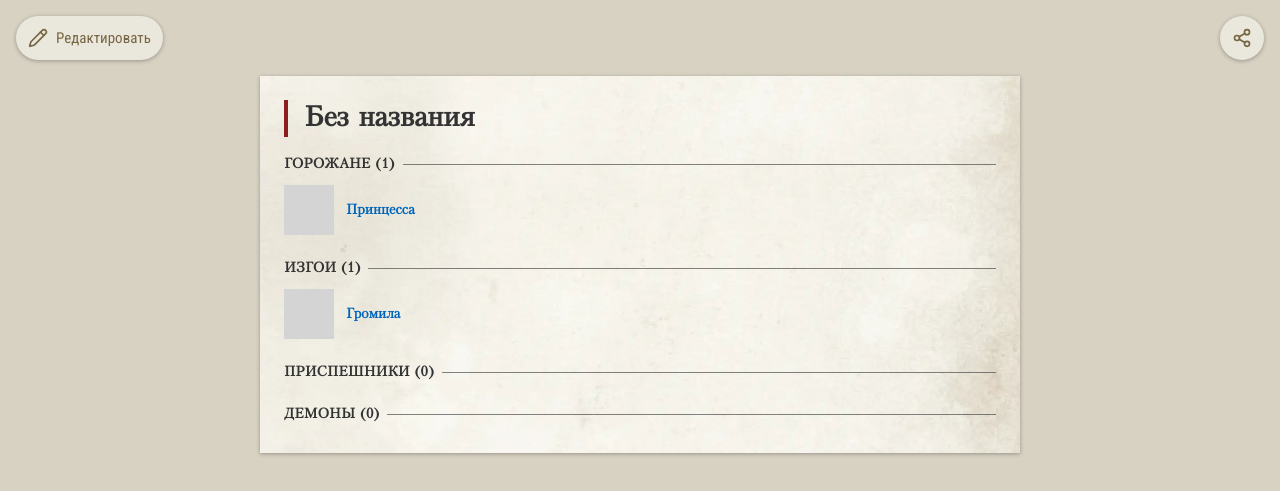
it: App › отменяет и повторяет удаление роли
Expected: the text "Принцесса" is shown, [346,203,415,217]
Click the button "Редактировать". click: [89, 38]
box: [16,16,163,60]
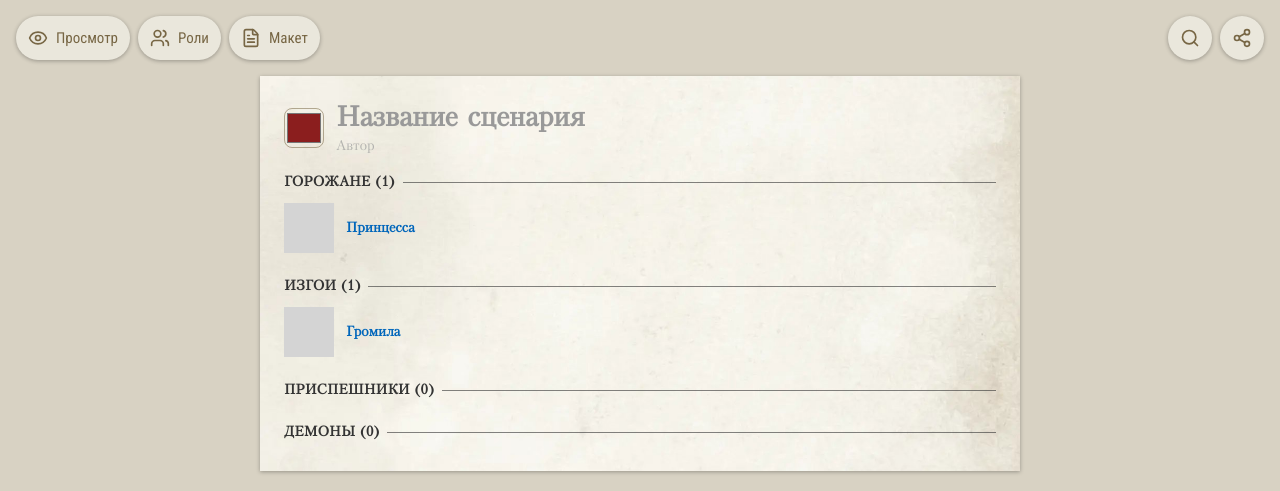
Click the button "Принцесса". click: [309, 228]
box: [278,197,638,259]
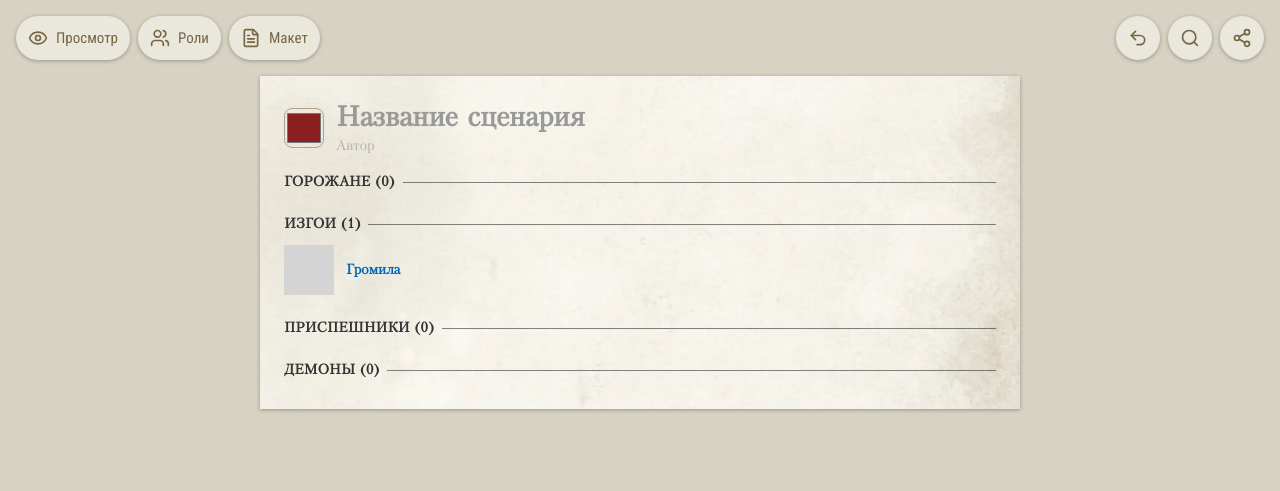
Now the button "Принцесса" is gone
Click the button named "Отменить". click: [1138, 38]
box: [1116,16,1160,60]
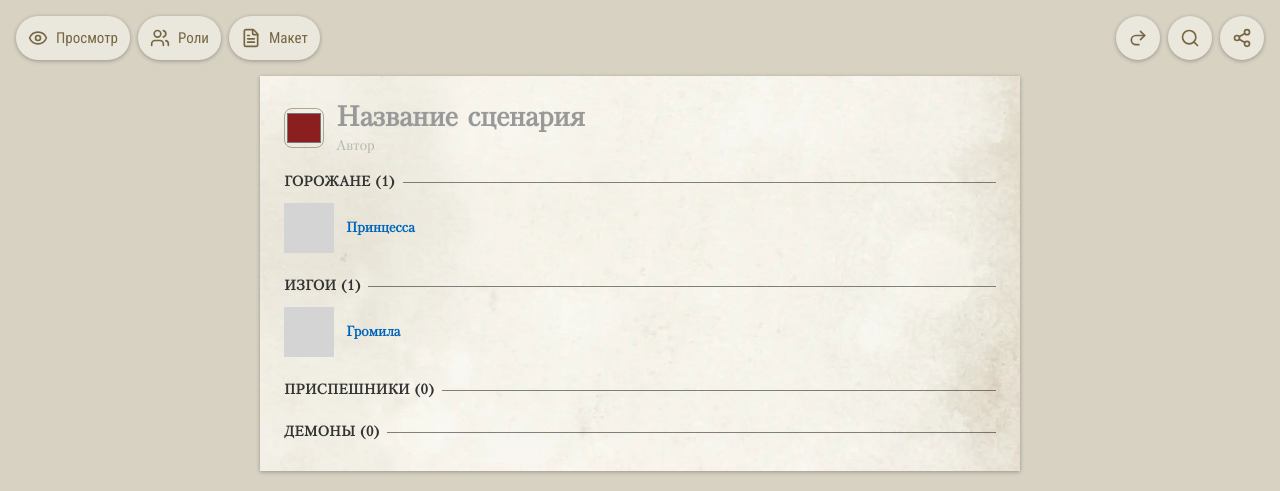
Now the text "Принцесса" is shown, box [346,221,415,235]
Click the button named "Повторить". click: [1138, 38]
box: [1116,16,1160,60]
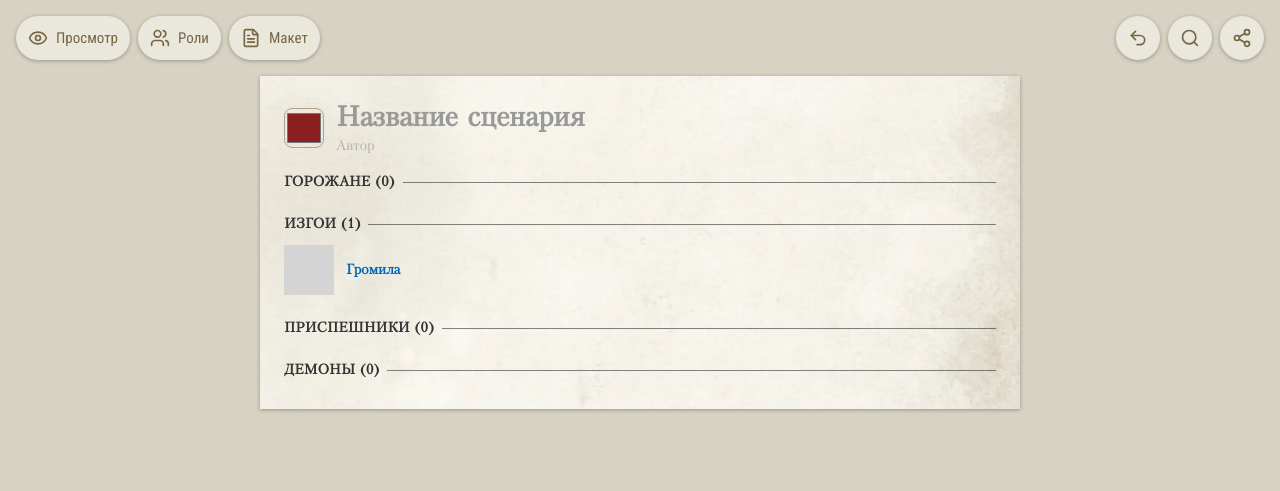
Now the button "Принцесса" is gone
